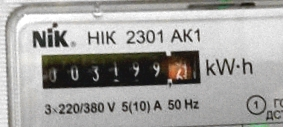0: (44, 63, 60, 84), (67, 61, 81, 81)
1: (109, 57, 120, 77)
3: (89, 63, 100, 83)
6: (173, 65, 185, 82)
9: (129, 58, 141, 77), (150, 59, 162, 78)
screen: (31, 28, 211, 112)
